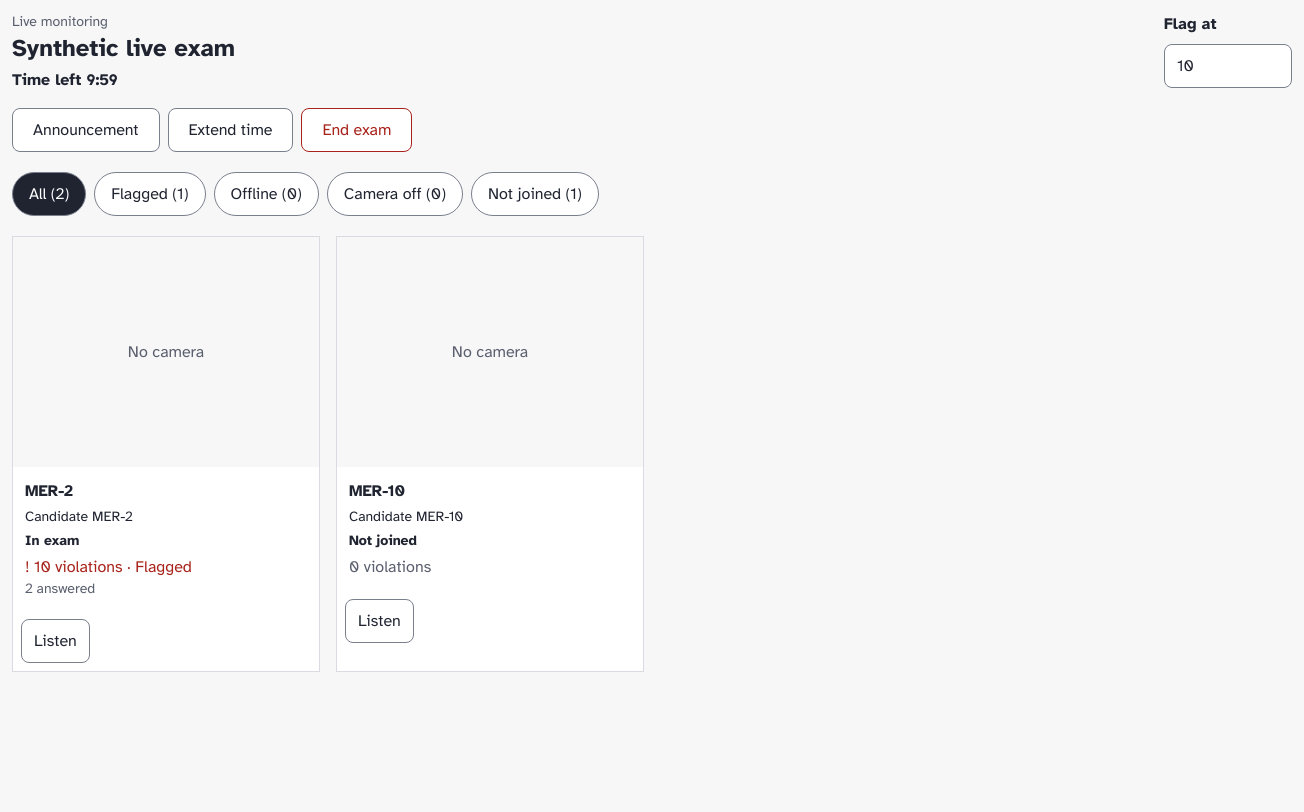
Scenario: LiveGrid › keeps normalized MER order and filters without reordering
Click the button "Not joined (1)". click: (535, 194)
box: x1=471 y1=172 x2=599 y2=216
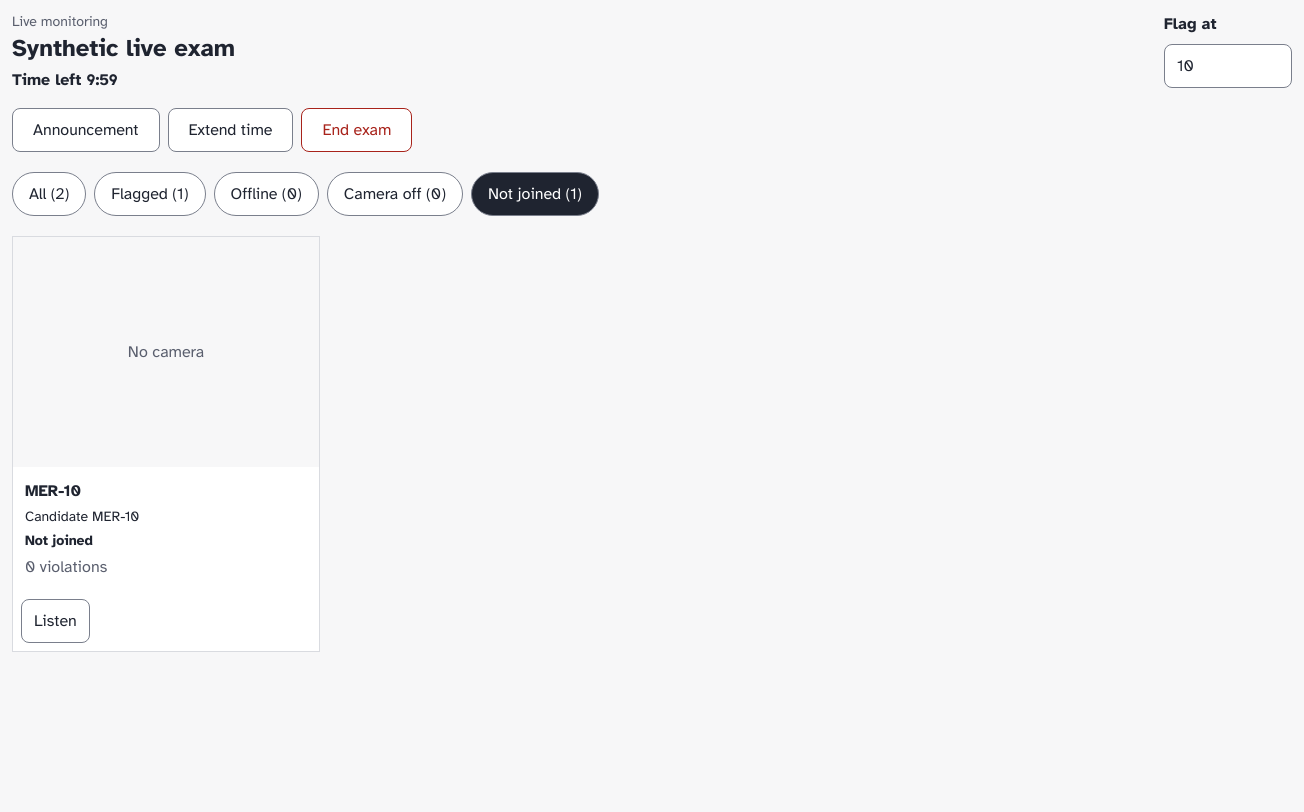
Expected: the button "No camera MER-10 Candidate MER-10 Not joined 0 violations" is shown, x1=13 y1=237 x2=319 y2=590
Expected: the button "MER-2 Candidate MER-2" is gone
